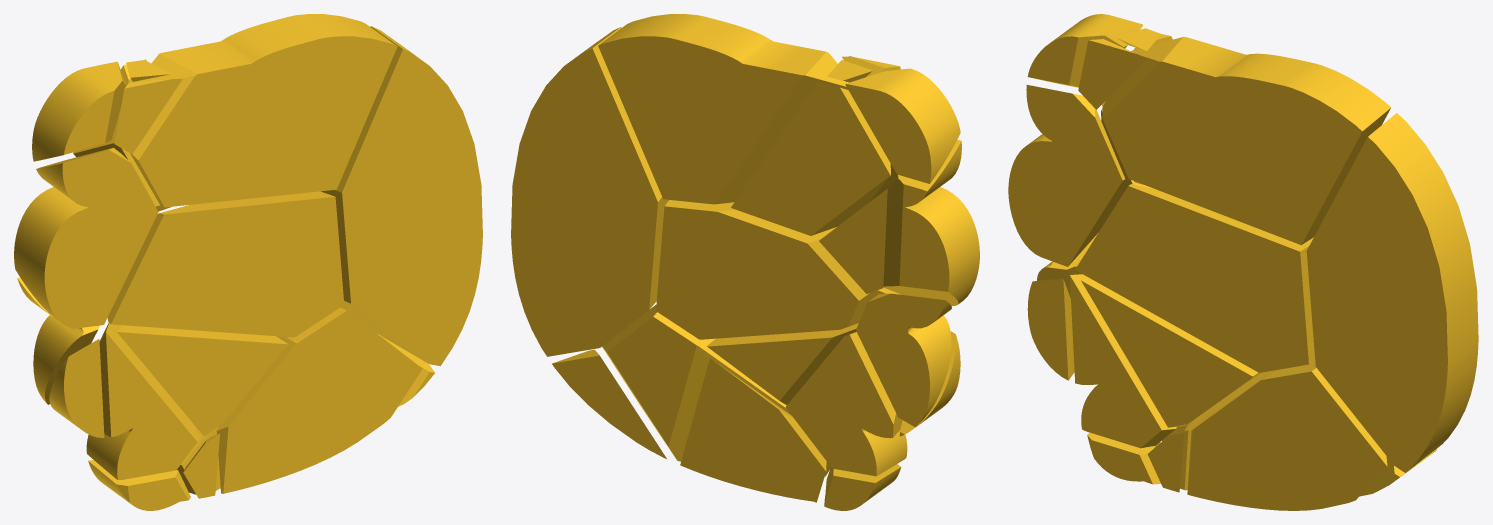
File: fractured-rock.glb
The picture shows the model from 3 angles, left to right: view 1: azimuth 30°, elevation 25°; view 2: azimuth 150°, elevation 25°; view 3: azimuth 330°, elevation 25°; orthographic projection.
Parts seen in each view (by area): view 1: Curve_cell.006, Curve_cell.020, Curve_cell, Curve_cell.013, Curve_cell.018, Curve_cell.005, Curve_cell.012, Curve_cell.002, Curve_cell.016, Curve_cell.015, Curve_cell.010, Curve_cell.019 (+5 smaller); view 2: Curve_cell.020, Curve_cell.006, Curve_cell, Curve_cell.003, Curve_cell.007, Curve_cell.018, Curve_cell.012, Curve_cell.013, Curve_cell.015, Curve_cell.002, Curve_cell.005, Curve_cell.001 (+4 smaller); view 3: Curve_cell.020, Curve_cell.006, Curve_cell, Curve_cell.013, Curve_cell.018, Curve_cell.005, Curve_cell.012, Curve_cell.002, Curve_cell.016, Curve_cell.010, Curve_cell.019, Curve_cell.011 (+4 smaller).
Part boxes in pixels (<box>): Curve_cell.006: <box>130,14,397,207</box>; Curve_cell.020: <box>321,26,482,366</box>; Curve_cell: <box>107,191,344,337</box>; Curve_cell.013: <box>216,307,422,493</box>; Curve_cell.018: <box>14,148,158,328</box>; Curve_cell.005: <box>117,325,288,435</box>; Curve_cell.012: <box>86,323,198,480</box>; Curve_cell.002: <box>32,61,126,161</box>; Curve_cell.016: <box>49,339,104,437</box>; Curve_cell.015: <box>17,277,99,404</box>; Curve_cell.010: <box>114,79,182,154</box>; Curve_cell.019: <box>88,460,190,510</box>; Curve_cell.020: <box>511,27,668,356</box>; Curve_cell.006: <box>598,14,848,204</box>; Curve_cell: <box>656,200,900,339</box>; Curve_cell.003: <box>731,82,890,235</box>; Curve_cell.007: <box>680,358,826,502</box>; Curve_cell.018: <box>869,139,979,306</box>; Curve_cell.012: <box>785,332,907,476</box>; Curve_cell.013: <box>602,305,791,461</box>; Curve_cell.015: <box>856,293,951,426</box>; Curve_cell.002: <box>845,68,960,183</box>; Curve_cell.005: <box>707,323,858,405</box>; Curve_cell.001: <box>819,189,887,293</box>; Curve_cell.020: <box>1306,113,1478,472</box>; Curve_cell.006: <box>1102,36,1391,245</box>; Curve_cell: <box>1075,184,1314,372</box>; Curve_cell.013: <box>1187,360,1387,510</box>; Curve_cell.018: <box>1008,85,1126,266</box>; Curve_cell.005: <box>1081,280,1258,427</box>; Curve_cell.012: <box>1070,274,1176,448</box>; Curve_cell.002: <box>1027,14,1142,87</box>; Curve_cell.016: <box>1027,278,1074,380</box>; Curve_cell.010: <box>1078,39,1146,109</box>; Curve_cell.019: <box>1087,432,1160,484</box>; Curve_cell.011: <box>1147,433,1184,492</box>.
Bounding box in the file's own units: 3.31 × 3.12 × 0.4.
